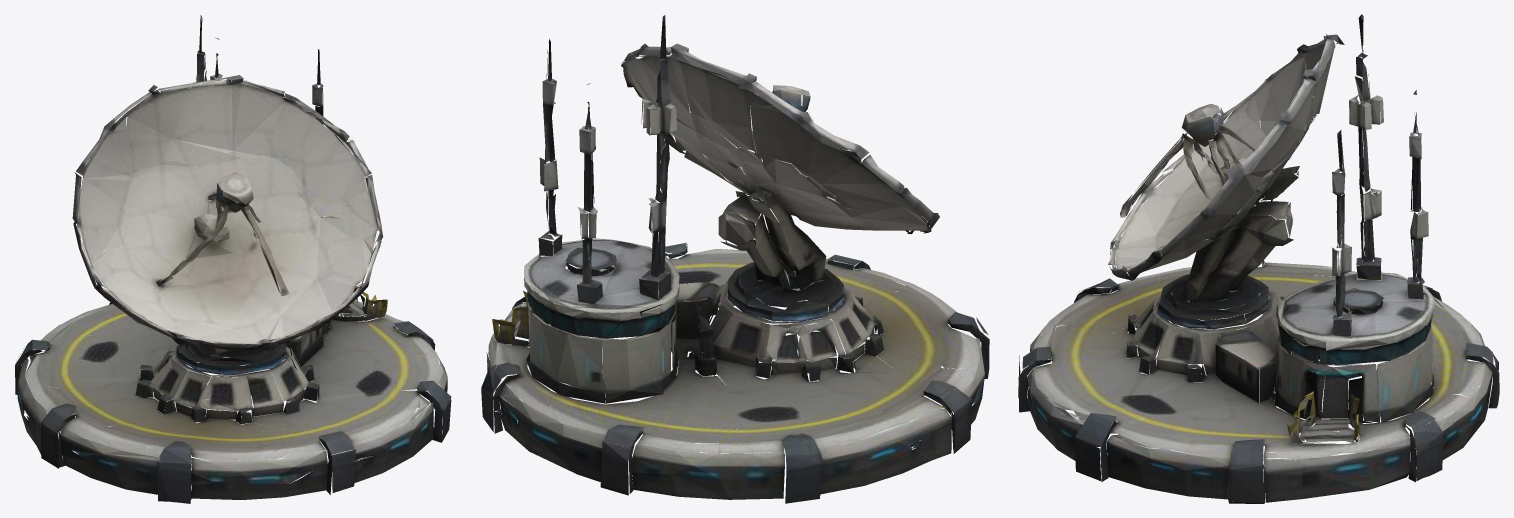
The model's file is intelligence.glb.
3 views of the same model, side by side, from view 1: azimuth 30°, elevation 25°; view 2: azimuth 150°, elevation 25°; view 3: azimuth 270°, elevation 25° (orthographic). The views are drawn at different scales.
Parts seen in each view (by area): view 1: geometry_0; view 2: geometry_0; view 3: geometry_0.
Part boxes in pixels (<box>): geometry_0: <box>15,15,451,503</box>; geometry_0: <box>481,15,989,503</box>; geometry_0: <box>1018,14,1499,503</box>.
Size of the model in its own units: 1.1 by 1 by 1.09.
Materials: 1 (1 with a texture image).
